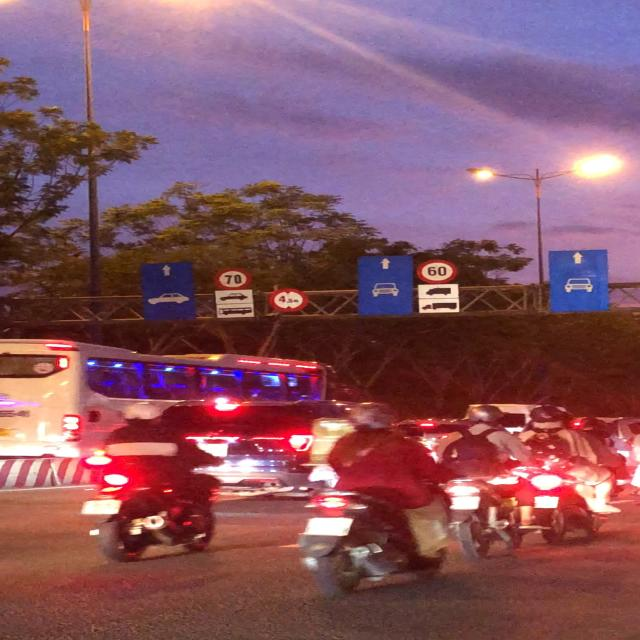Bien bao han che chieu cao: (264, 286, 314, 315)
Bien bao toc do toi da cho phep: (410, 258, 464, 285), (212, 264, 258, 290)
